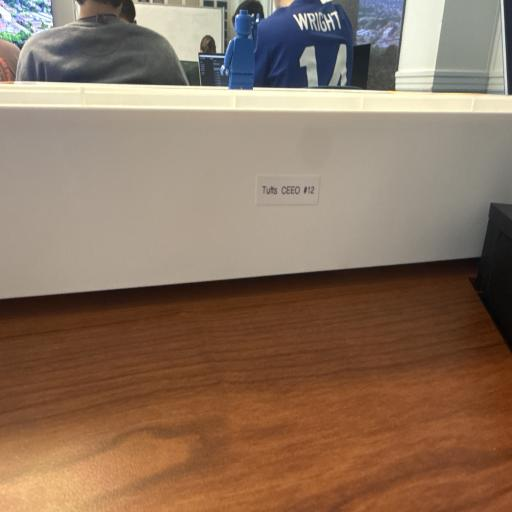Minifig: (221, 10, 257, 89)
